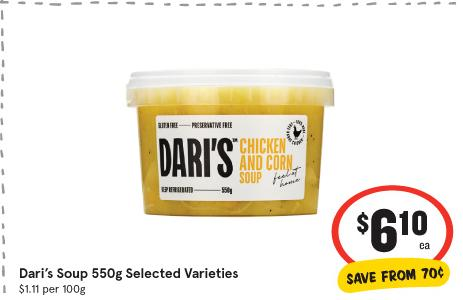description_block: (16, 255, 247, 285)
price_main: (345, 194, 441, 256)
product_image_block: (101, 51, 344, 233)
promo_text_block: (326, 261, 458, 290)
unit_price_block: (12, 283, 100, 297)
